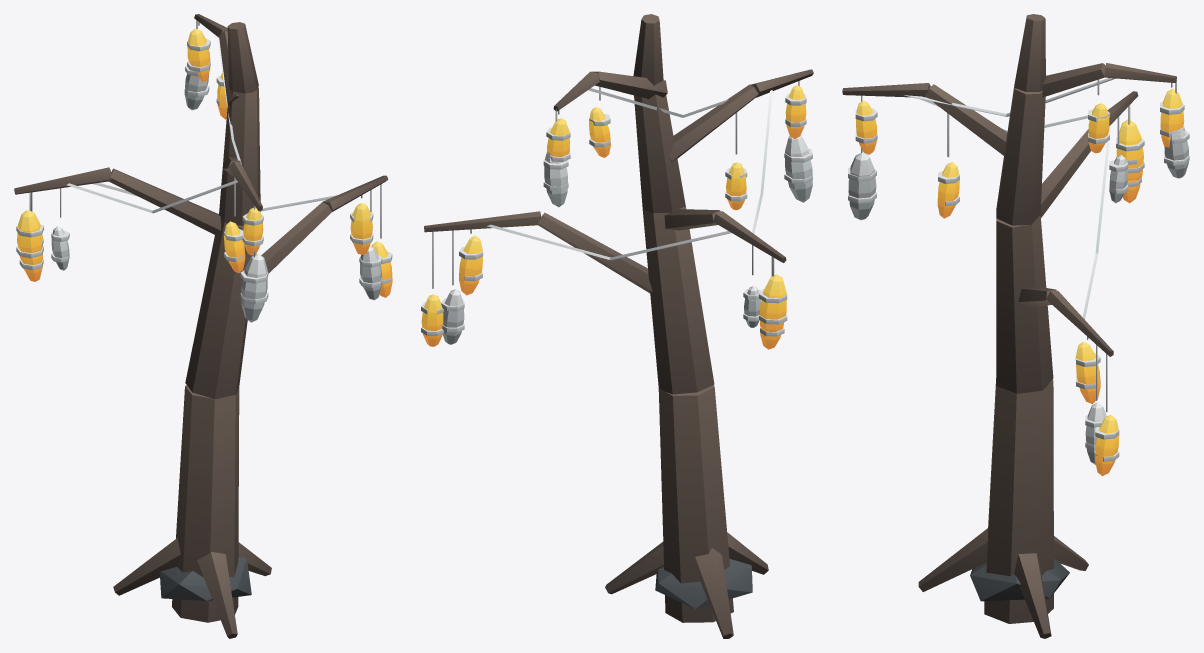
File: moth_cocoon.glb
3 views of the same model, side by side, from view 1: azimuth 30°, elevation 25°; view 2: azimuth 150°, elevation 25°; view 3: azimuth 270°, elevation 25° (orthographic). The views are drawn at different scales.
Visible parts, largest first — view 1: moth_cocoon; view 2: moth_cocoon; view 3: moth_cocoon.
Boxes of the visible parts, x1,y1,x2,y2 form: moth_cocoon: (14, 14, 392, 638); moth_cocoon: (421, 14, 813, 638); moth_cocoon: (842, 14, 1189, 638).
Size of the model in its own units: 3.69 by 5.52 by 2.83.
Materials: 2 (2 with a texture image).
